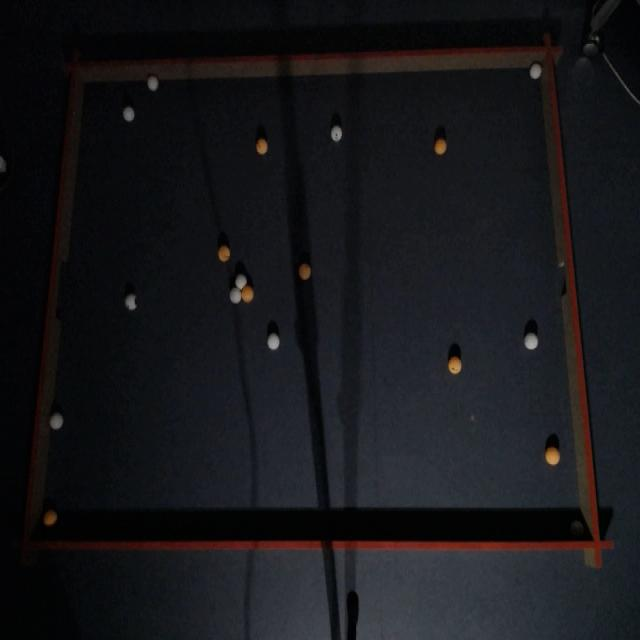orange_ball: (545, 446, 560, 465), (241, 284, 254, 304), (43, 509, 57, 527), (448, 356, 461, 374), (218, 245, 230, 262), (299, 264, 311, 280), (256, 139, 266, 154), (434, 140, 444, 154)
white_ball: (524, 332, 538, 350), (50, 413, 64, 431), (529, 62, 542, 79), (123, 105, 135, 122), (146, 75, 158, 92), (235, 273, 247, 290), (268, 334, 280, 351), (230, 286, 241, 304), (125, 297, 137, 311), (331, 126, 342, 141), (572, 520, 583, 535)
